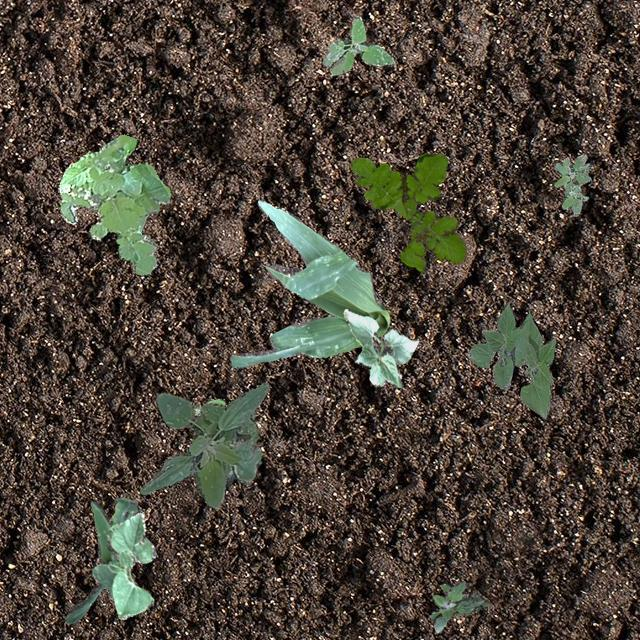crop: (230, 198, 390, 366), (138, 382, 268, 506), (466, 302, 554, 418), (65, 497, 136, 622), (90, 512, 156, 618), (342, 308, 418, 387)
weed: (58, 133, 170, 274), (348, 152, 464, 272), (322, 15, 392, 74), (429, 580, 488, 632), (552, 153, 590, 214), (191, 398, 223, 414)
